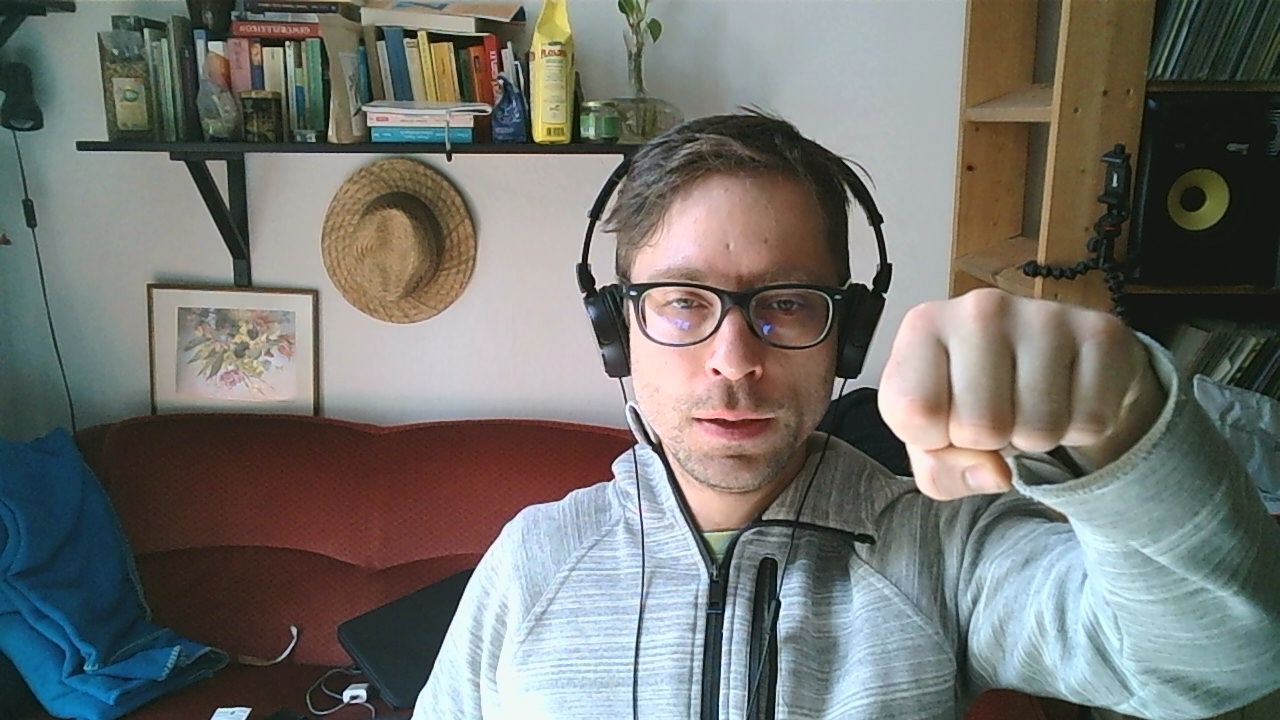yes: (874, 284, 1134, 499)
